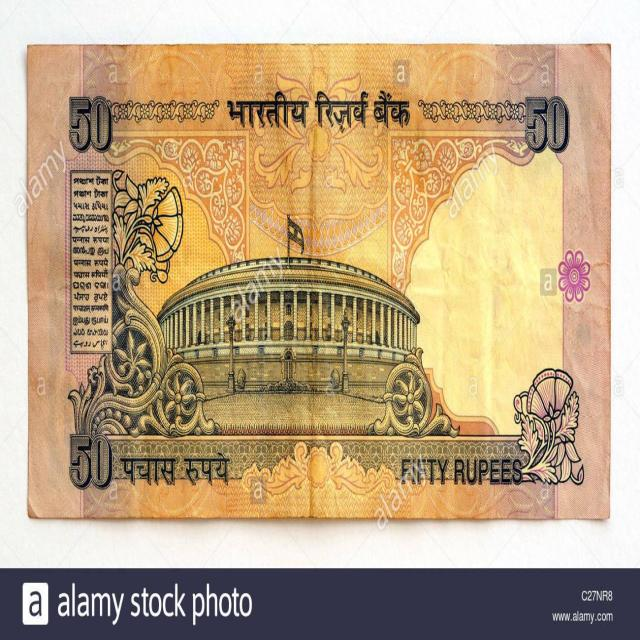50IndianRupees: (33, 42, 608, 521), (142, 51, 610, 519), (25, 44, 442, 520)
